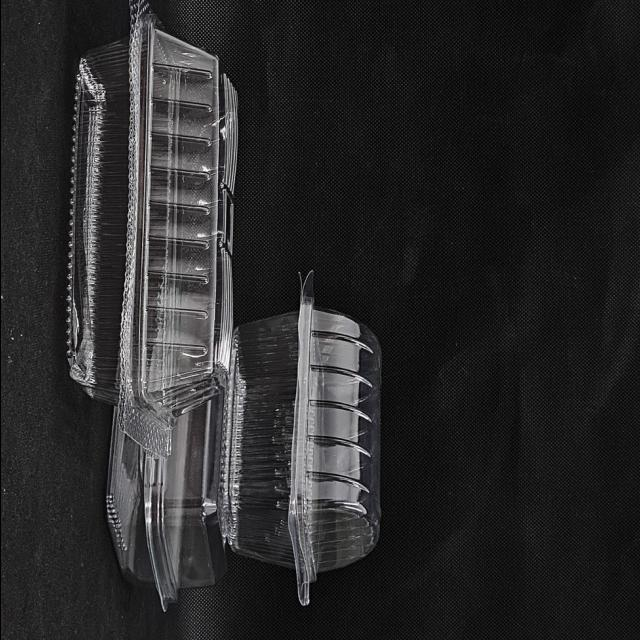plastik: (67, 0, 236, 456), (220, 273, 380, 605), (106, 394, 227, 610)
